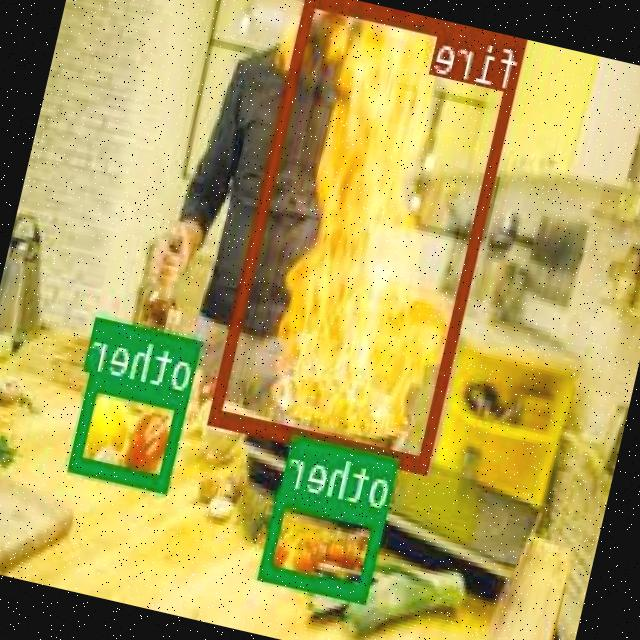fire: (211, 0, 528, 469)
